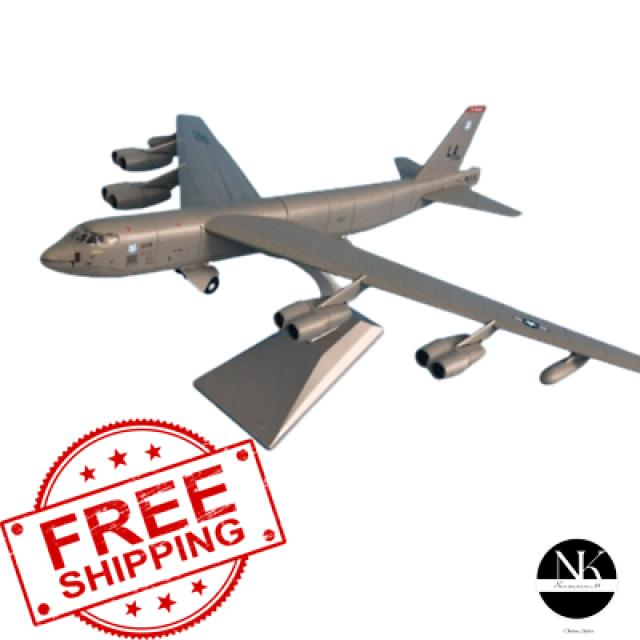B1: (29, 83, 640, 463)
